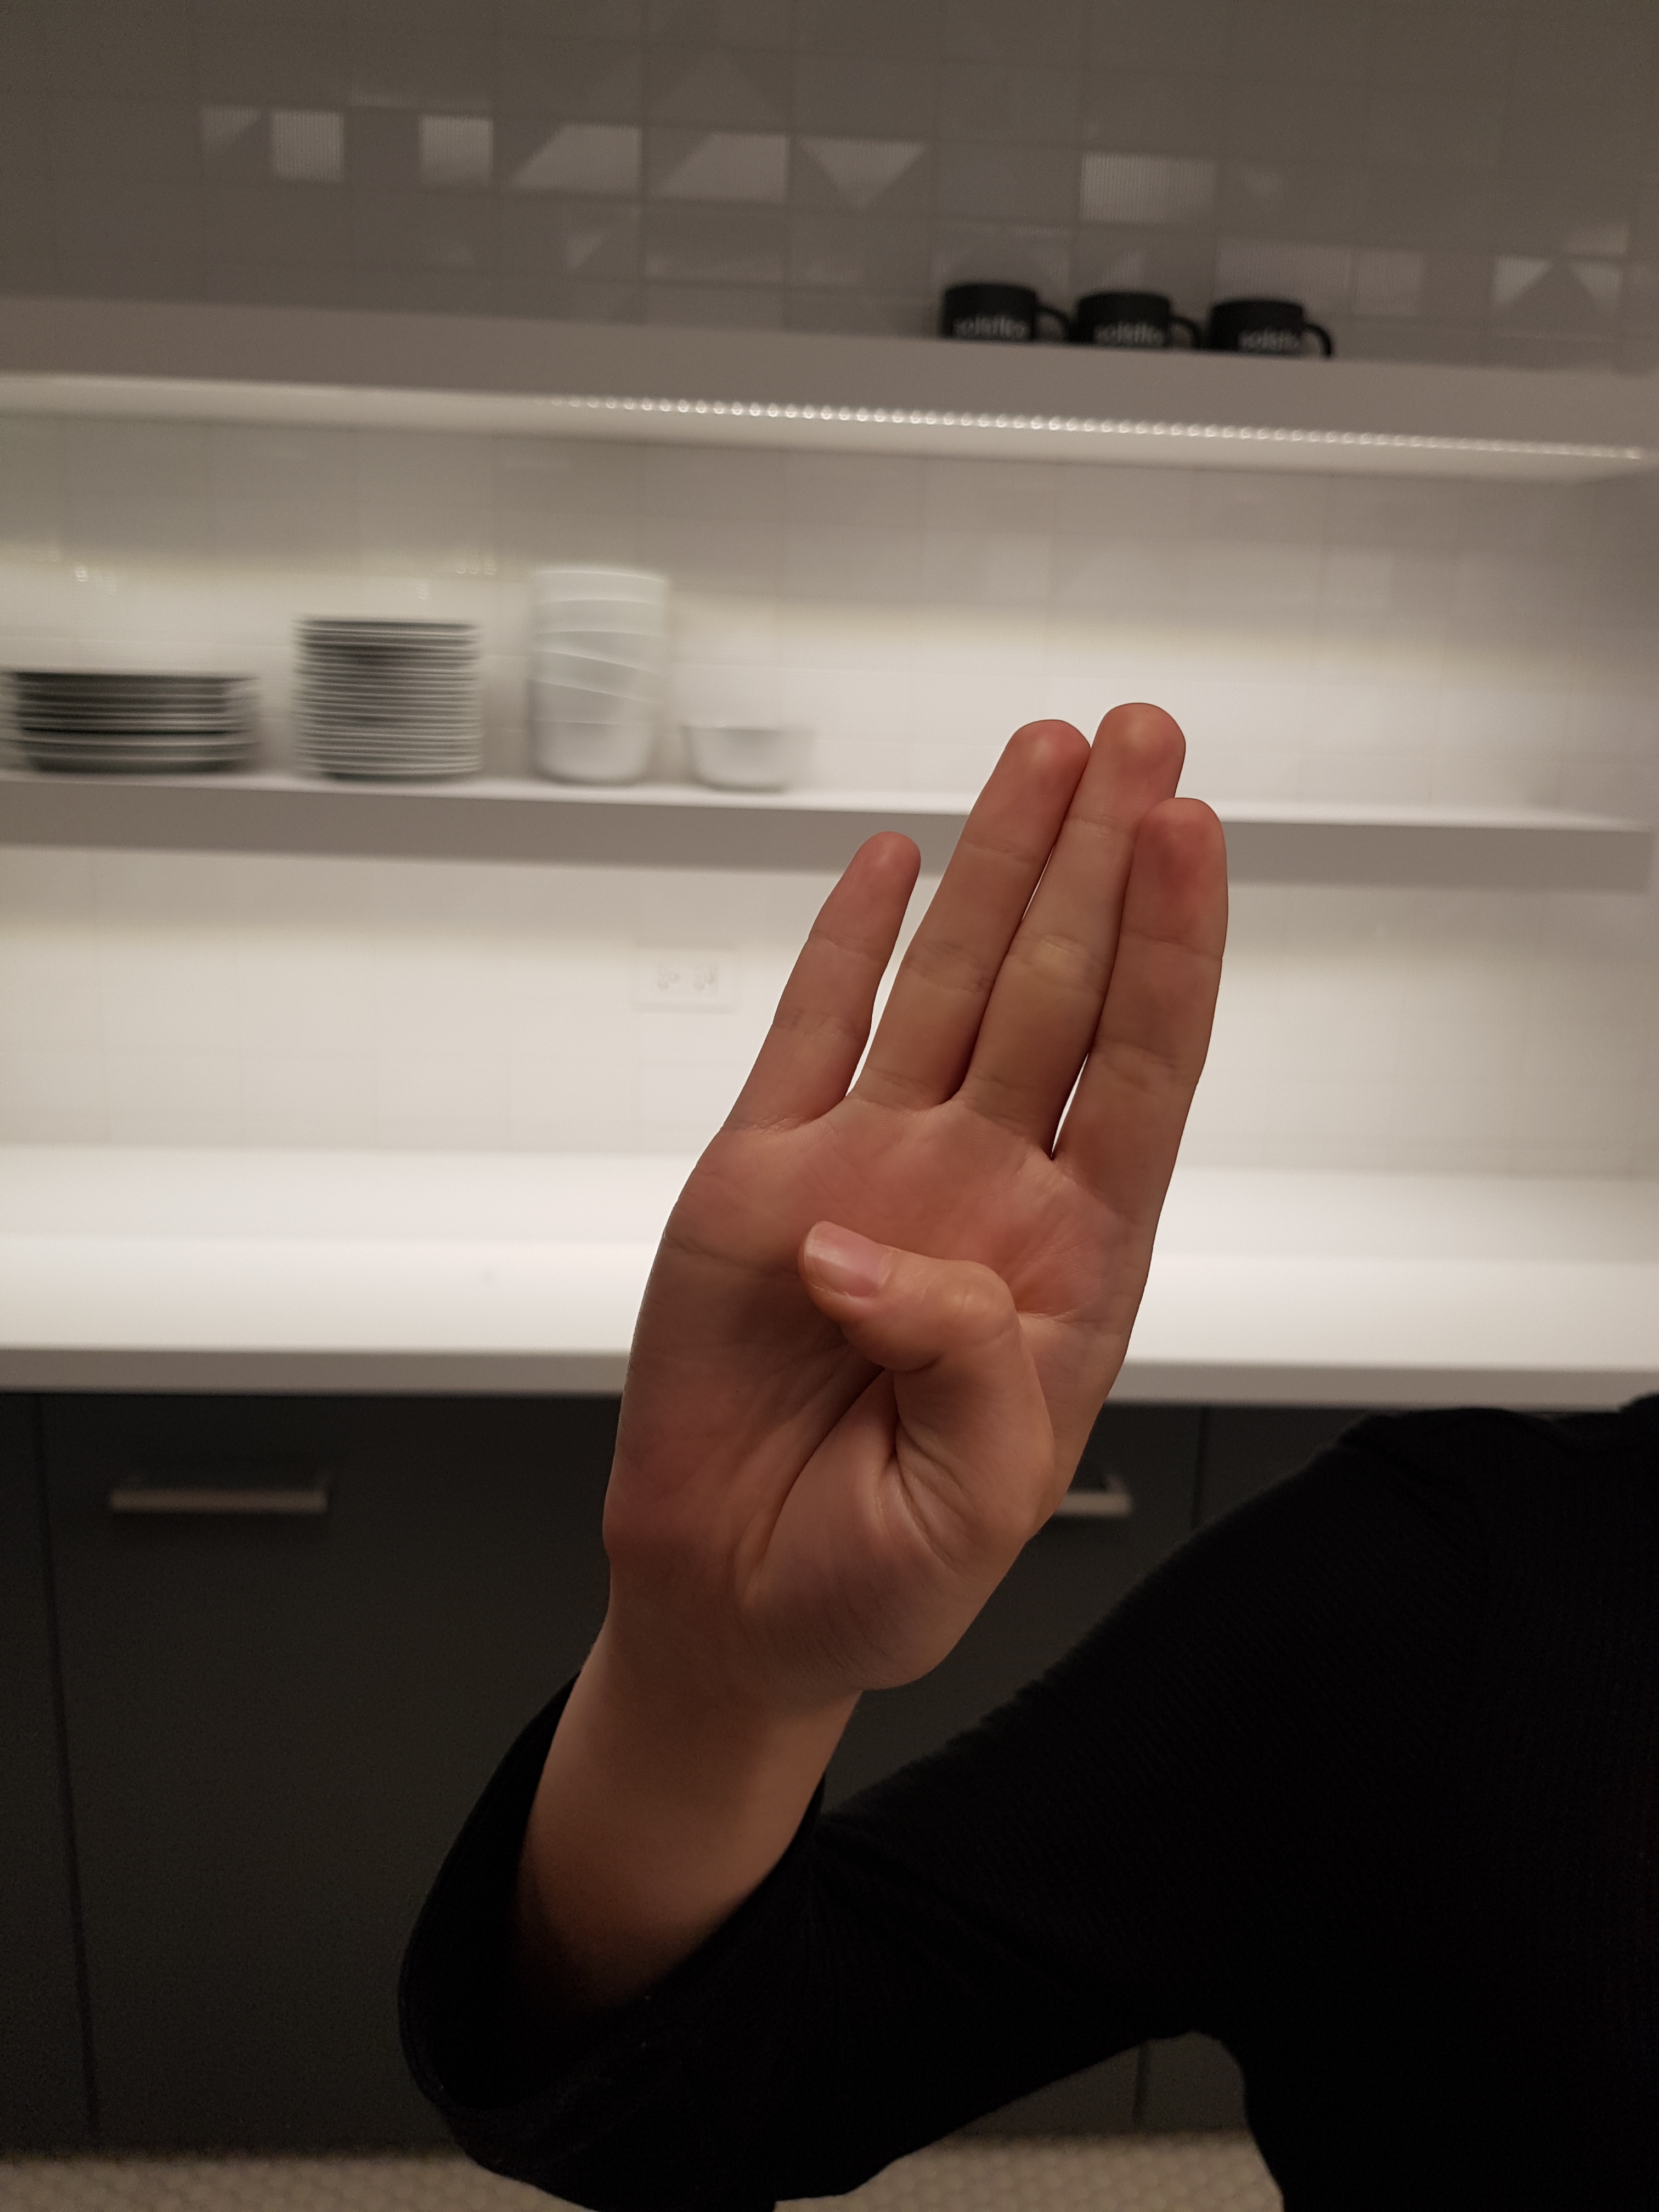b: (575, 648, 1263, 1768)
